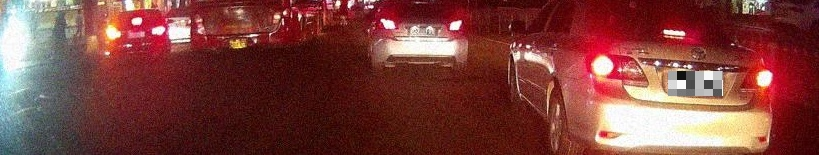L_light: (585, 53, 648, 81), (377, 18, 398, 30), (108, 31, 121, 38)
R_light: (741, 69, 772, 88), (447, 20, 464, 31), (151, 26, 165, 35)
T_light: (662, 27, 687, 37), (131, 18, 142, 25), (413, 2, 426, 7)
night-brake: (585, 0, 772, 155)
night-left: (107, 8, 170, 61)
night-no: (369, 0, 468, 73)
plate_1: (668, 71, 723, 96)
